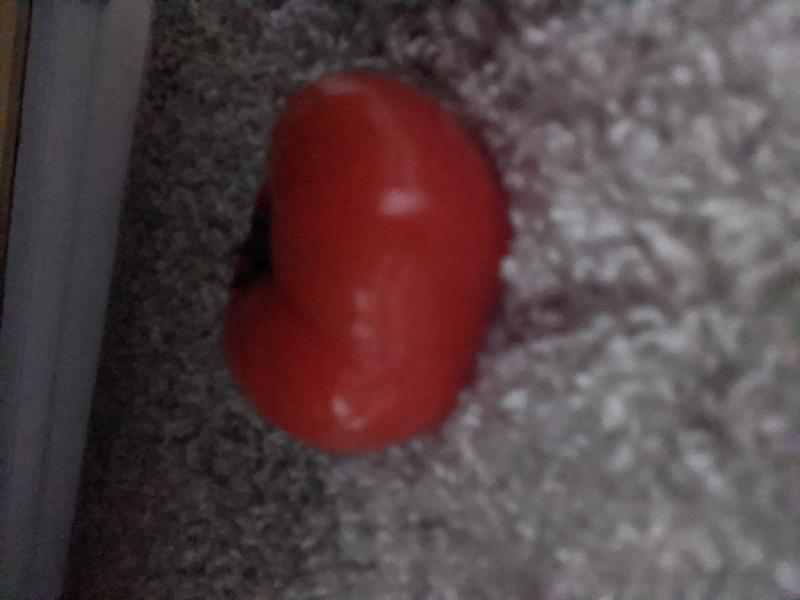tomato: (223, 70, 514, 457)
